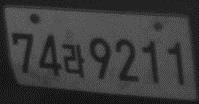1: (165, 39, 185, 87), (141, 38, 160, 87)
2: (112, 37, 139, 83)
4: (37, 33, 62, 78)
7: (9, 30, 34, 76)
9: (89, 36, 112, 81)
라: (61, 42, 87, 80)
